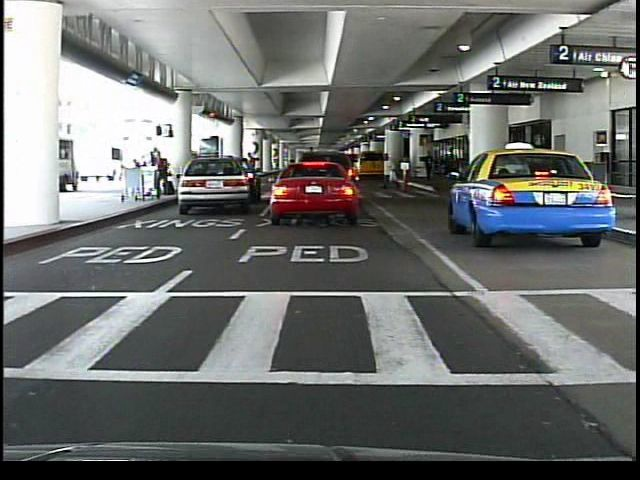person: (280, 155, 301, 207), (241, 148, 261, 202), (303, 151, 318, 203), (154, 146, 169, 196), (383, 150, 398, 188), (420, 148, 435, 182)
